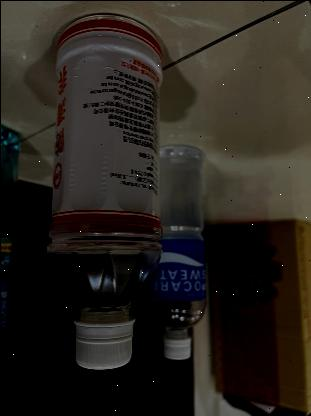Plastic Bottle: (45, 13, 162, 369), (146, 144, 205, 360)
